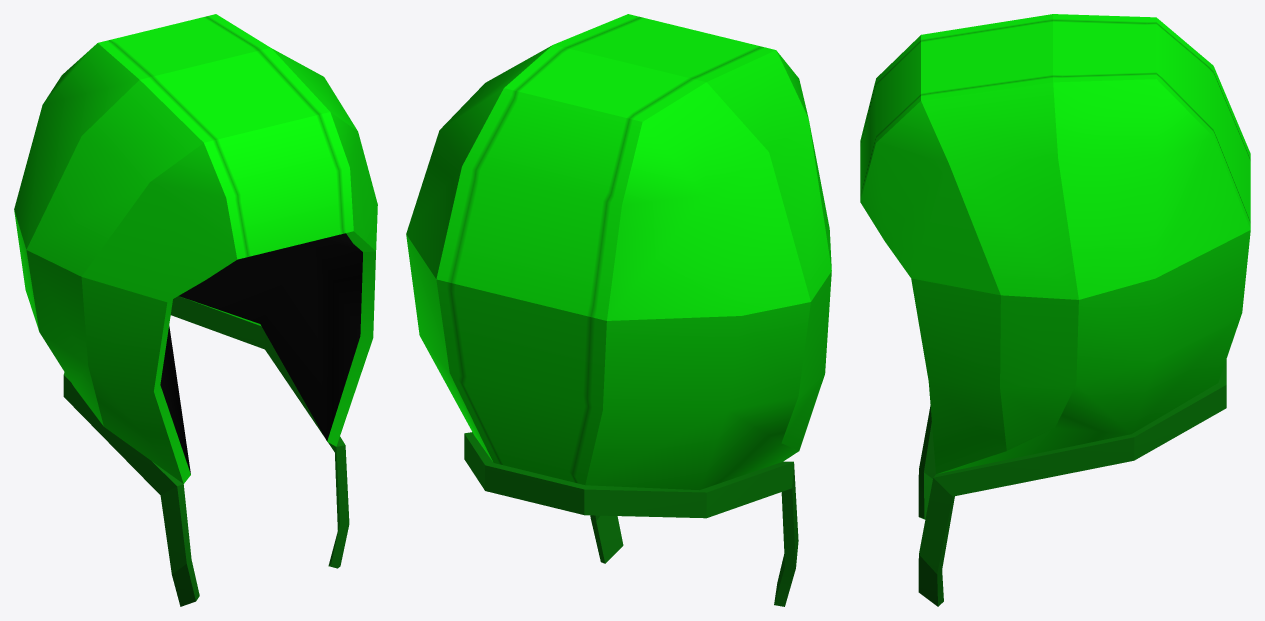
Rendered from LeatherCoif_F.fbx.
The picture shows the model from 3 angles, left to right: view 1: azimuth 30°, elevation 25°; view 2: azimuth 150°, elevation 25°; view 3: azimuth 270°, elevation 25°; orthographic projection. The views are drawn at different scales.
Visible parts, largest first — view 1: LeatherCoif_F; view 2: LeatherCoif_F; view 3: LeatherCoif_F.
Part boxes in pixels (box(x1,y1,x2,y2)): LeatherCoif_F: box(14, 14, 377, 606); LeatherCoif_F: box(406, 14, 831, 606); LeatherCoif_F: box(860, 14, 1250, 606).
Bounding box in the file's own units: 26.66 × 37.01 × 25.3.
